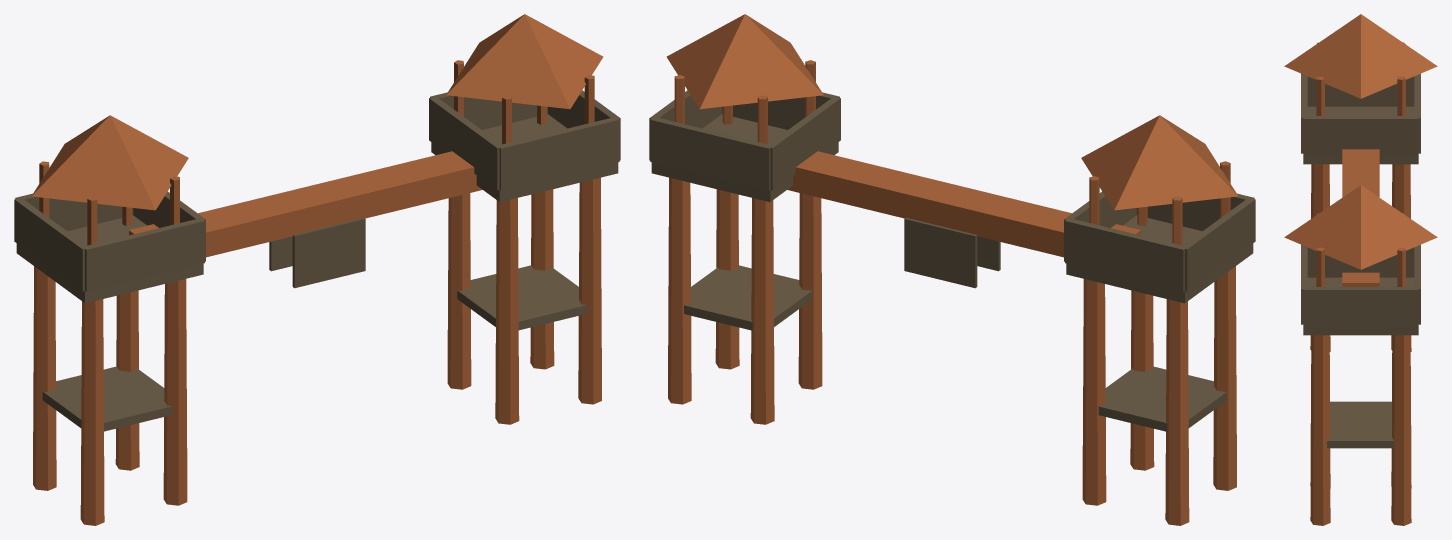
Rendered from gnome_gate_broken.glb.
The picture shows the model from 3 angles, left to right: view 1: azimuth 30°, elevation 25°; view 2: azimuth 150°, elevation 25°; view 3: azimuth 270°, elevation 25°; orthographic projection. The views are drawn at different scales.
Visible parts, largest first — view 1: gnome_gate_piece3, gnome_gate_piece4, gnome_gate_piece6, gnome_gate_piece8, gnome_gate_piece12, gnome_gate_piece5, gnome_gate_piece2, gnome_gate_piece7, gnome_gate_piece11, gnome_gate_piece13, gnome_gate_piece9, gnome_gate_piece10 (+2 smaller); view 2: gnome_gate_piece3, gnome_gate_piece8, gnome_gate_piece2, gnome_gate_piece12, gnome_gate_piece1, gnome_gate_piece4, gnome_gate_piece6, gnome_gate_piece7, gnome_gate_piece10, gnome_gate_piece9, gnome_gate_piece5, gnome_gate_piece11 (+1 smaller); view 3: gnome_gate_piece7, gnome_gate_piece4, gnome_gate_piece3, gnome_gate_piece6, gnome_gate_piece1, gnome_gate_piece5, gnome_gate_piece13, gnome_gate_piece10, gnome_gate_piece8, gnome_gate_piece2, gnome_gate_piece12.
Part boxes in pixels (box(x1,y1,x2,y2)): gnome_gate_piece3: box(14, 115, 205, 438); gnome_gate_piece4: box(481, 61, 620, 295); gnome_gate_piece6: box(487, 186, 601, 424); gnome_gate_piece8: box(365, 25, 531, 207); gnome_gate_piece12: box(253, 169, 379, 288); gnome_gate_piece5: box(103, 204, 254, 505); gnome_gate_piece2: box(350, 133, 538, 420); gnome_gate_piece7: box(490, 14, 616, 202); gnome_gate_piece11: box(34, 300, 104, 525); gnome_gate_piece13: box(103, 144, 206, 463); gnome_gate_piece9: box(33, 303, 81, 489); gnome_gate_piece10: box(49, 129, 163, 244); gnome_gate_piece3: box(1128, 115, 1255, 396); gnome_gate_piece8: box(663, 46, 924, 192); gnome_gate_piece2: box(669, 182, 888, 424); gnome_gate_piece12: box(868, 177, 1034, 288); gnome_gate_piece1: box(992, 177, 1122, 505); gnome_gate_piece4: box(668, 29, 840, 354); gnome_gate_piece6: box(668, 136, 840, 399); gnome_gate_piece7: box(649, 14, 786, 259); gnome_gate_piece10: box(1082, 132, 1167, 321); gnome_gate_piece9: box(1133, 273, 1191, 525); gnome_gate_piece5: box(1037, 204, 1166, 504); gnome_gate_piece11: box(1179, 340, 1236, 490); gnome_gate_piece7: box(1308, 185, 1420, 403); gnome_gate_piece4: box(1284, 212, 1410, 488); gnome_gate_piece3: box(1284, 14, 1420, 218); gnome_gate_piece6: box(1310, 335, 1408, 525); gnome_gate_piece1: box(1342, 60, 1437, 351); gnome_gate_piece5: box(1303, 116, 1392, 351); gnome_gate_piece13: box(1334, 69, 1397, 209); gnome_gate_piece10: box(1347, 37, 1428, 118); gnome_gate_piece8: box(1333, 204, 1437, 286); gnome_gate_piece2: box(1331, 277, 1414, 524); gnome_gate_piece12: box(1342, 180, 1379, 197).
Bounding box in the file's own units: 4.83 × 3.05 × 1.33.
